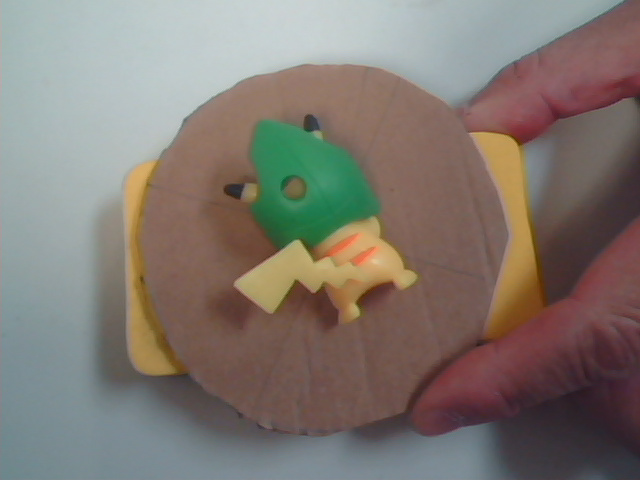pikachu: (190, 116, 443, 369)
